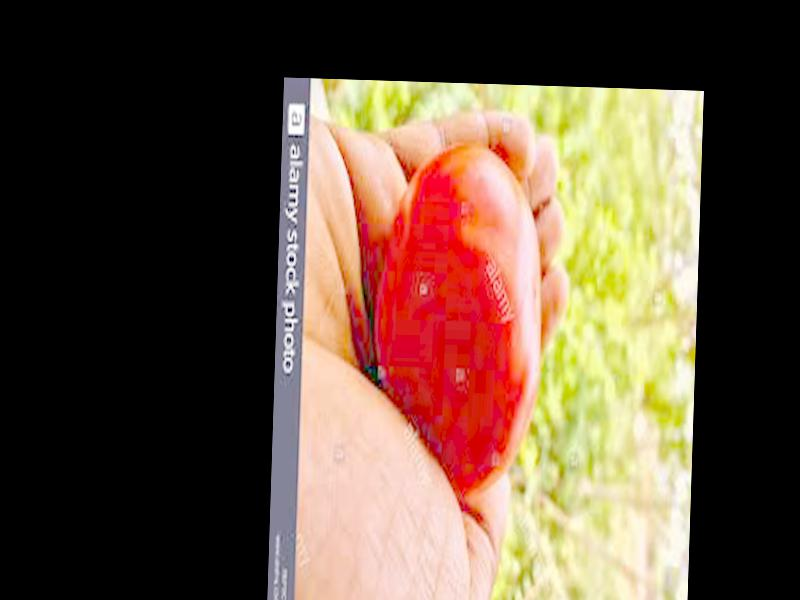Tomato: (370, 143, 544, 494)
